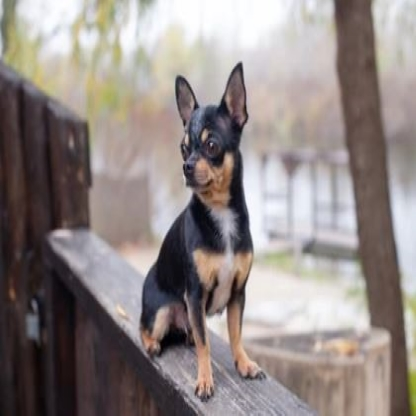chihuahua: (138, 60, 267, 400)
